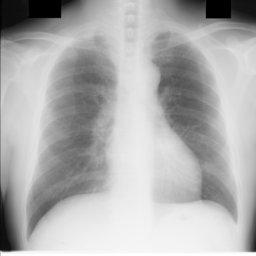leftlobe: (153, 34, 237, 220)
right lobe: (28, 37, 116, 234)
trachea: (126, 1, 138, 42)
